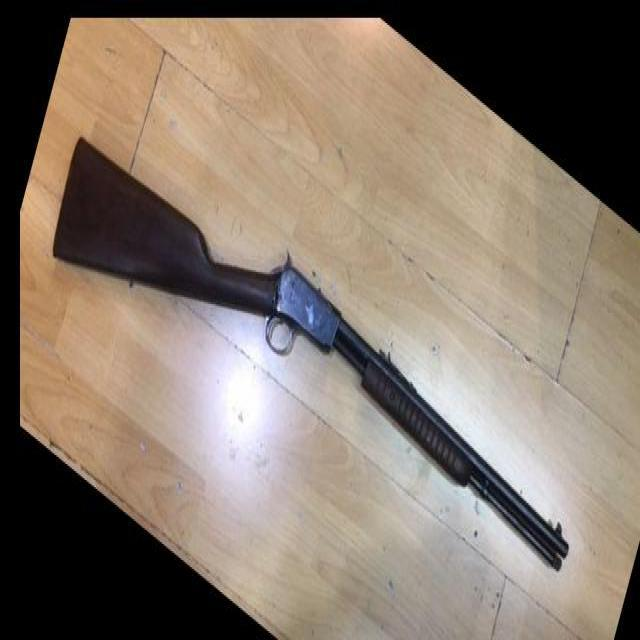weapon: (53, 134, 571, 575)
